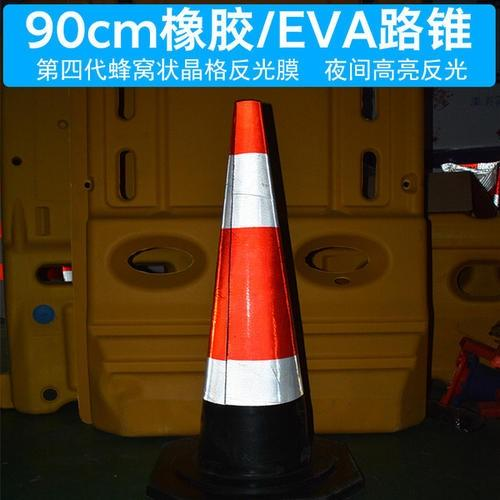cone_barrel: (172, 102, 333, 482)
